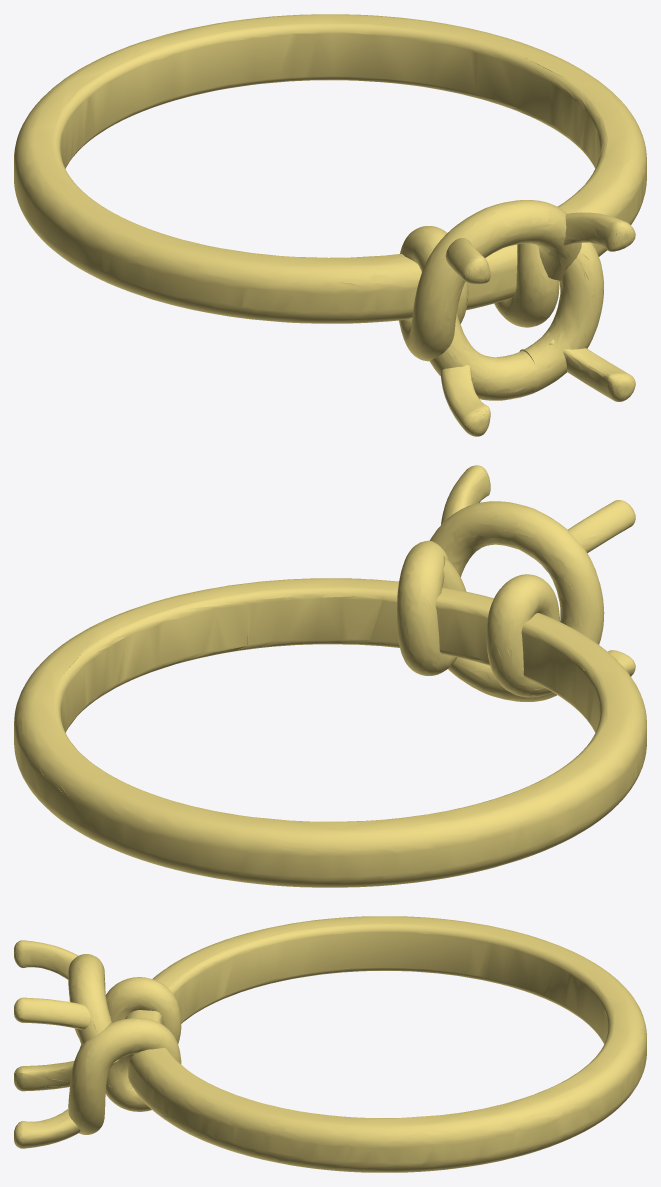
3 renders of one model, top to bottom at view 1: azimuth 30°, elevation 25°; view 2: azimuth 150°, elevation 25°; view 3: azimuth 270°, elevation 25°, orthographic. The views are drawn at different scales.
Visible parts, largest first — view 1: lr-0022; view 2: lr-0022; view 3: lr-0022.
Part boxes in pixels (<box>): lr-0022: <box>14,14,646,436</box>; lr-0022: <box>14,465,646,887</box>; lr-0022: <box>14,916,646,1172</box>.
Bounding box in the file's own units: 0.8296 × 0.2796 × 1.
